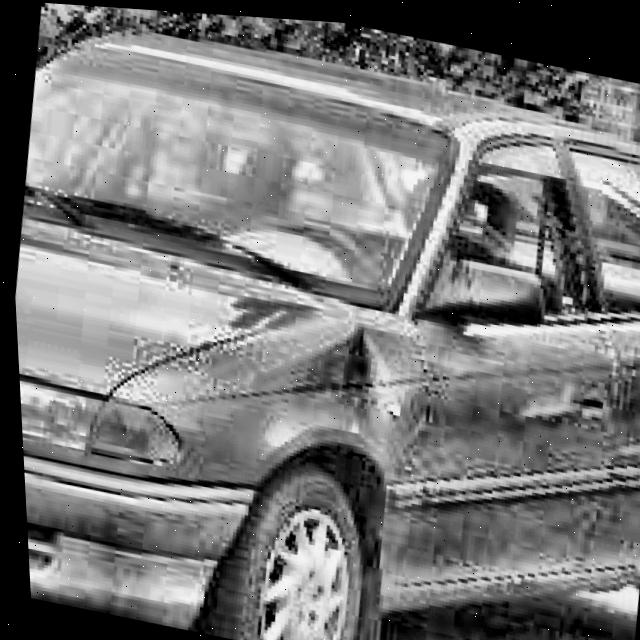door_dent: (259, 291, 438, 459)
